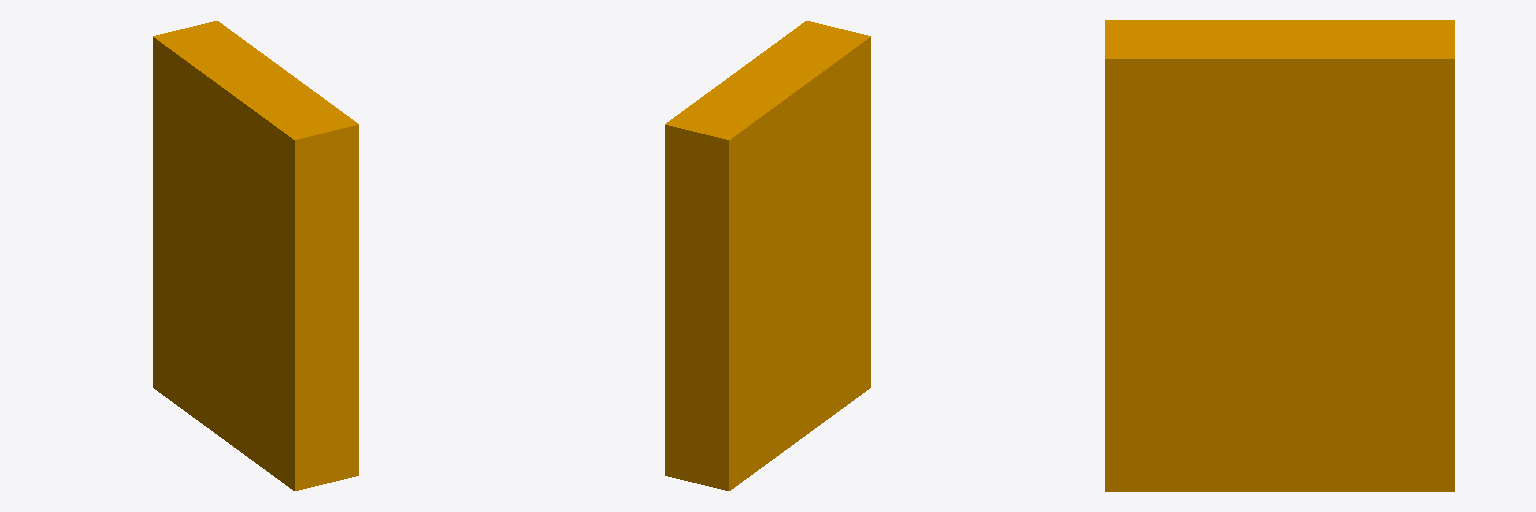
URDF robot description (goldengrahams):
<!-- Gelatina jelly box size, needs correct texture -->

<robot name="goldengrahams">
	<link name="goldengrahams">
		<inertial>
			<origin xyz="0 0 0" rpy="0 0 0" />			
			<mass value="0.5" />
			<!-- center of mass (com) is defined w.r.t. link local coordinate system -->
			<origin xyz="0 0 0" />
			<inertia  ixx="0.0" ixy="0.0"  ixz="0.0"  iyy="0.0"  iyz="0.0"  izz="0.0" />
		</inertial>
		<visual>
			<origin xyz="0 0 0" rpy="0 0 0" />
			<geometry>
				<box size="0.029 0.110 0.150" />
			</geometry>
		</visual>
		<collision>
			<origin xyz="0 0 0" rpy="0 0 0" />
			<geometry>
				<box size="0.029 0.110 0.150" /> <!-- 2.9cm deep   11cm wide  15cm high  -->
			</geometry>
		</collision>
	</link>

	<gazebo reference="goldengrahams">
		<material>Custom/goldengrahams</material>
	</gazebo>
</robot>

--- Facts derived from the render (not from the file) ---
3 views of the same robot in one strip: view 1: azimuth 30°, elevation 25°; view 2: azimuth 150°, elevation 25°; view 3: azimuth 270°, elevation 25° (orthographic).
Model goldengrahams with 1 links and 0 joints (none), rooted at goldengrahams, posed every joint at zero.
Visible links, largest first — view 1: goldengrahams; view 2: goldengrahams; view 3: goldengrahams.
Link boxes in pixels (<box>): goldengrahams: <box>153,21,358,490</box>; goldengrahams: <box>665,21,870,490</box>; goldengrahams: <box>1105,20,1454,491</box>.
Size in the robot's own frame: 0.029 by 0.11 by 0.15 metres.
Geometry: primitives only (box / cylinder / sphere), no mesh files.
